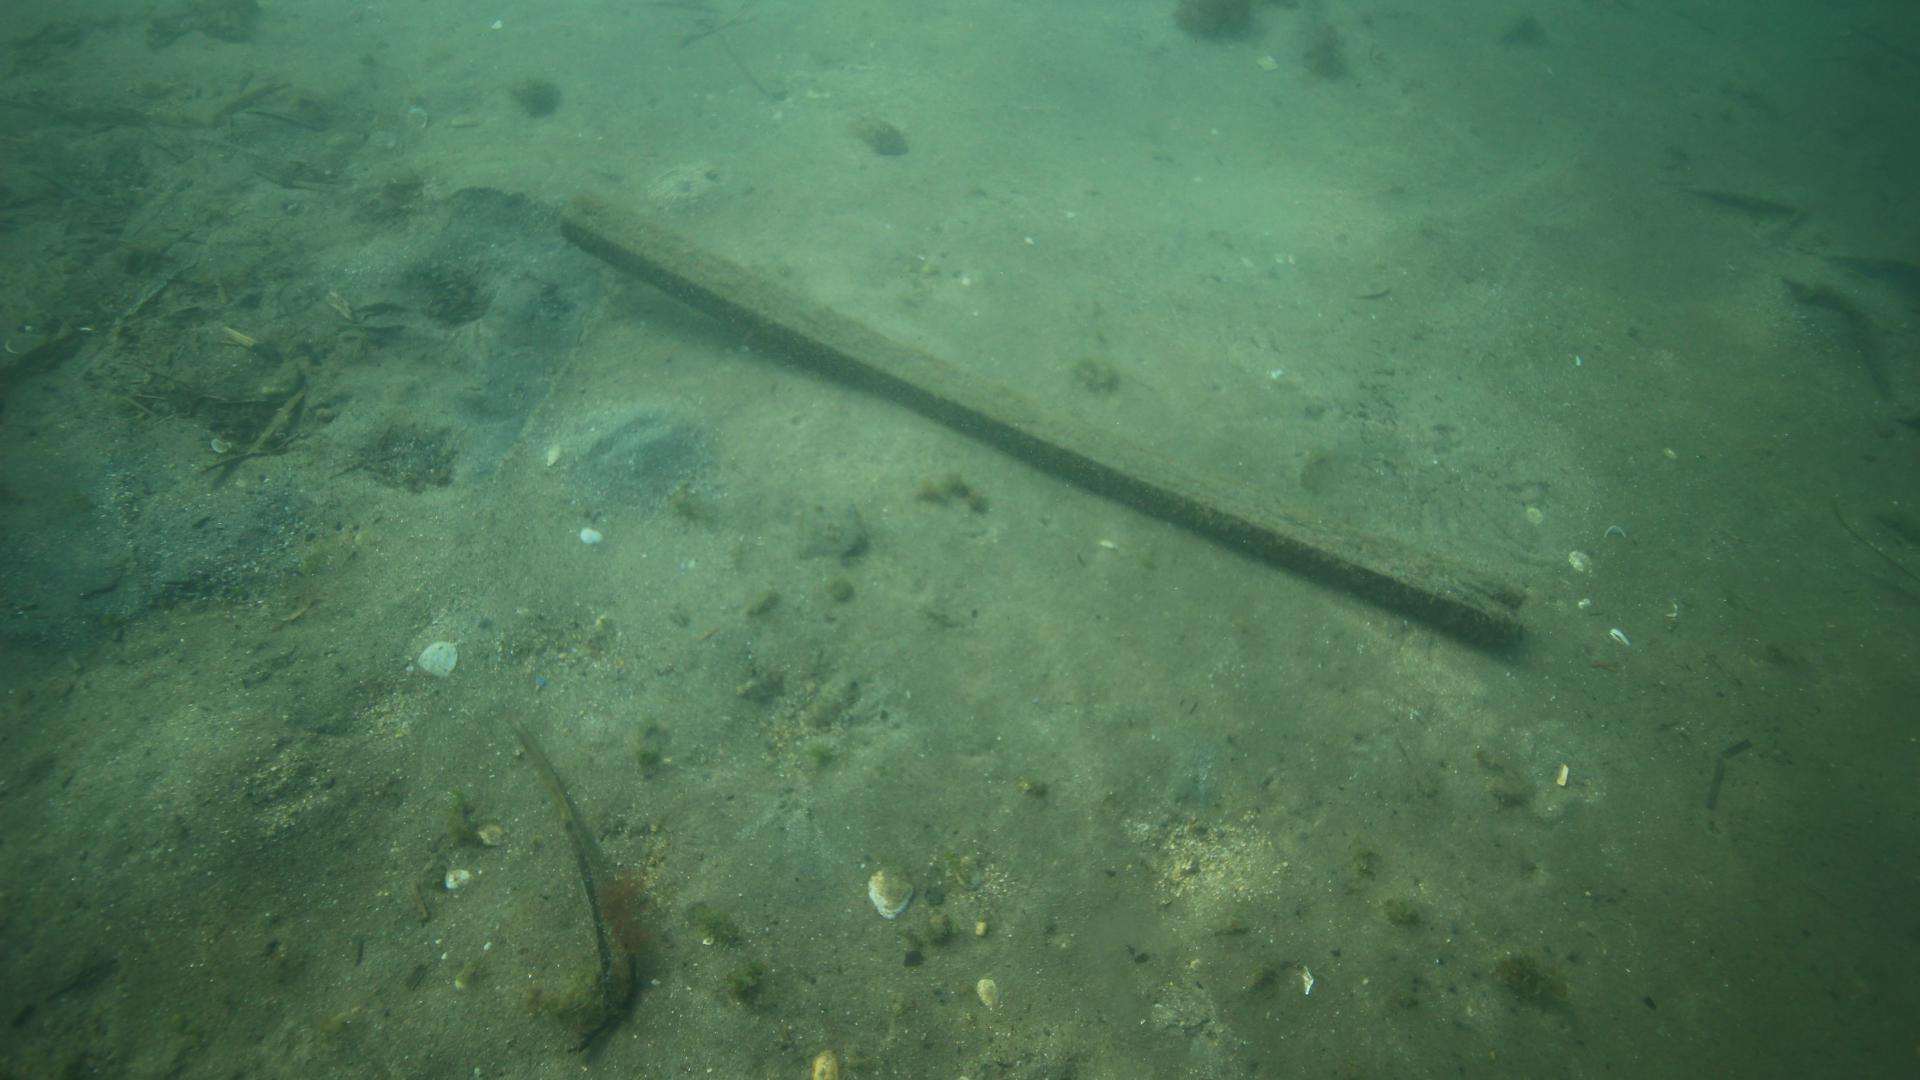wood: (554, 190, 1528, 655)
